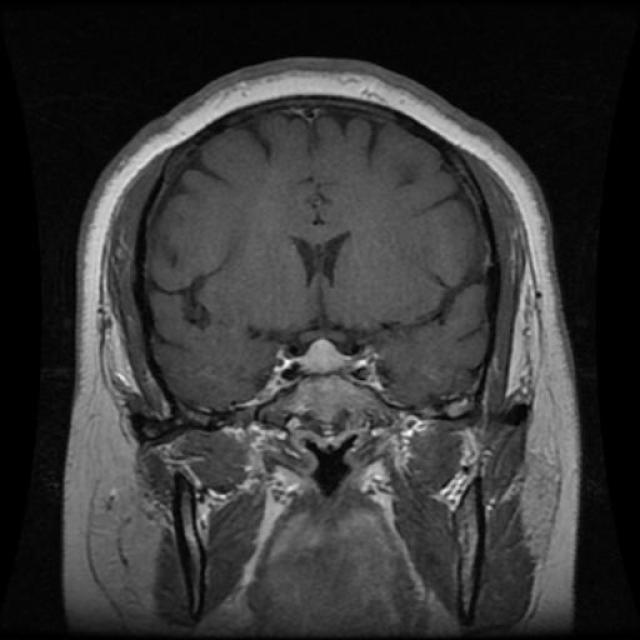pituitary: (262, 298, 389, 430)
